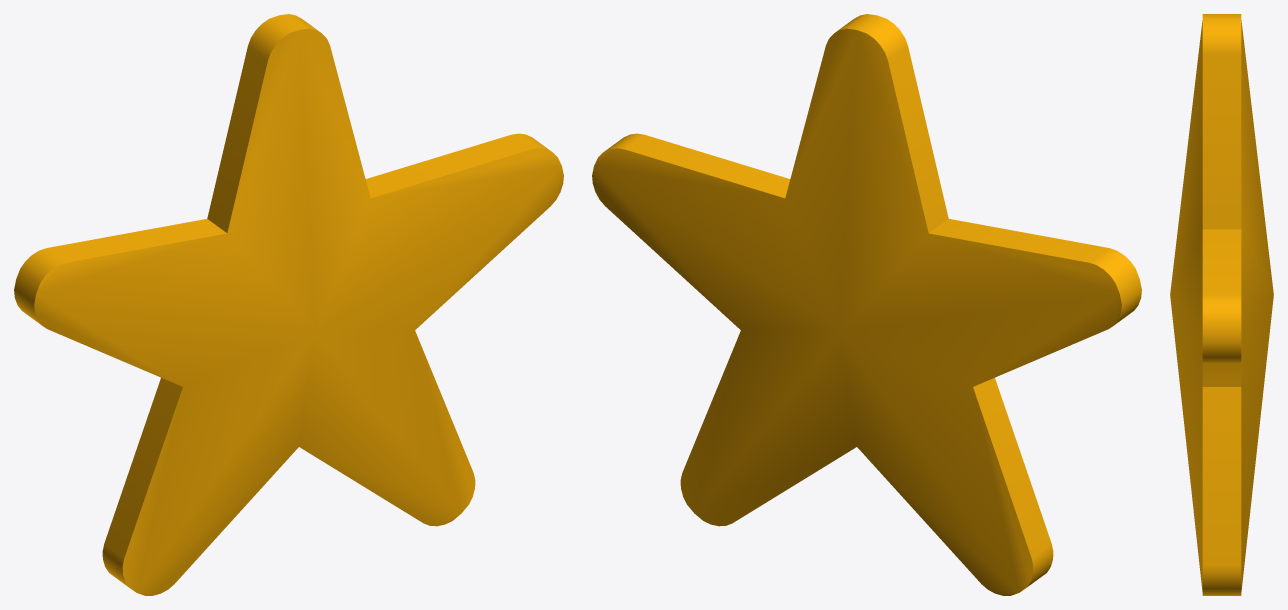
File: star.glb
The picture shows the model from 3 angles, left to right: view 1: azimuth 30°, elevation 25°; view 2: azimuth 150°, elevation 25°; view 3: azimuth 270°, elevation 25°; orthographic projection. The views are drawn at different scales.
Visible parts, largest first — view 1: Circle.2112; view 2: Circle.2112; view 3: Circle.2112.
Boxes of the visible parts, x1,y1,x2,y2 form: Circle.2112: (14,14,563,595); Circle.2112: (592,14,1141,595); Circle.2112: (1170,14,1273,595).
Size of the model in its own units: 2.3 by 2.2 by 0.4067.
Materials: 1 (1 with a texture image).
